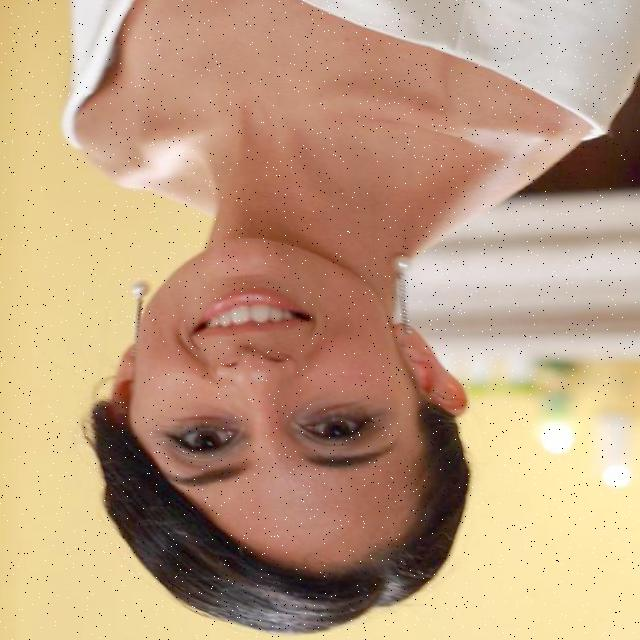puffy_eyes: (293, 393, 361, 425), (165, 409, 241, 437)
